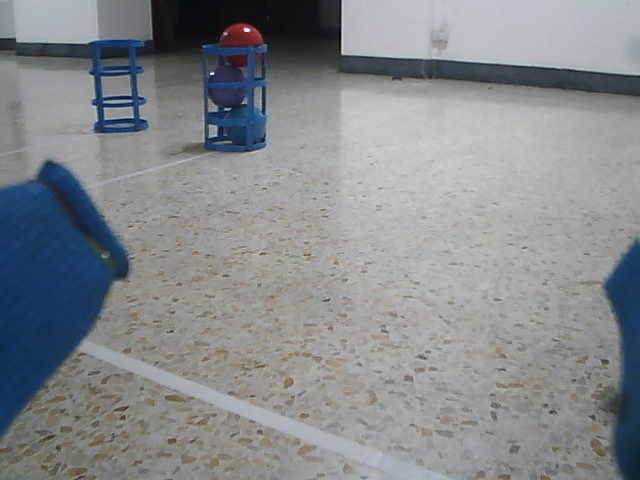Blue ball: (224, 103, 265, 148)
Cyro: (200, 41, 268, 153), (85, 37, 150, 135)
Purple ball: (207, 65, 246, 109)
Red ball: (218, 22, 264, 67)
